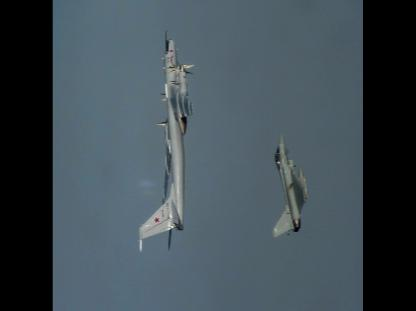E2: (271, 131, 308, 238)
Su57: (136, 29, 194, 251)
